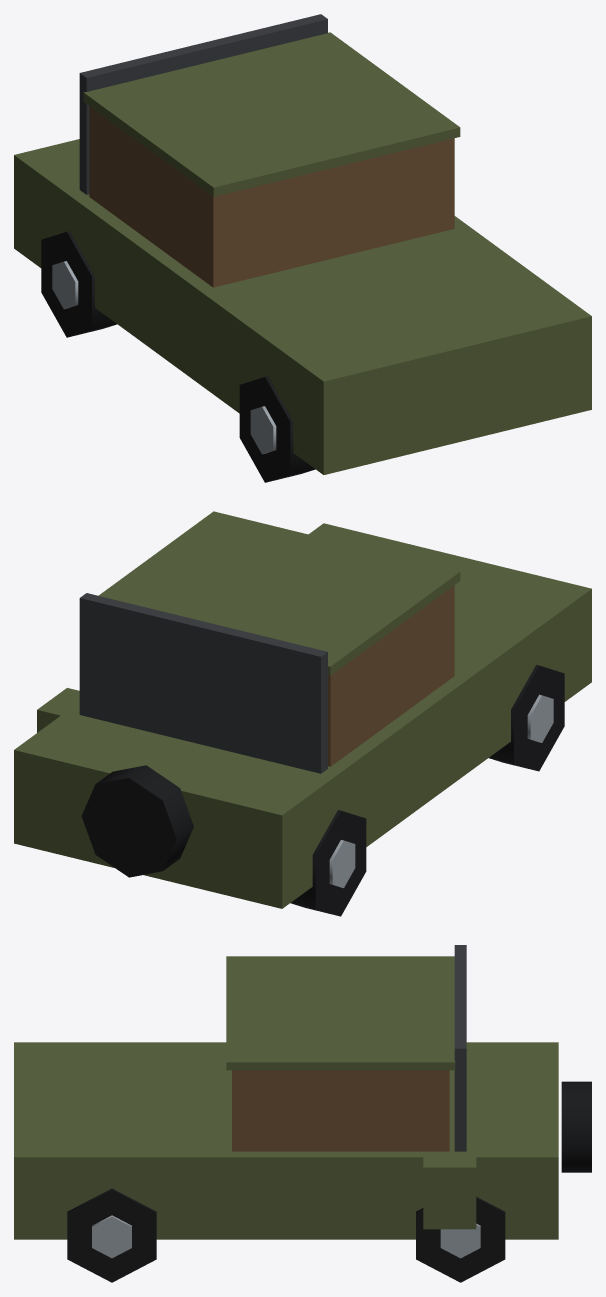
File: veh_ground_jeep_a06_lod1.glb
The picture shows the model from 3 angles, top to bottom: view 1: azimuth 30°, elevation 25°; view 2: azimuth 150°, elevation 25°; view 3: azimuth 270°, elevation 25°; orthographic projection. The views are drawn at different scales.
Visible parts, largest first — view 1: body, wheel_2, wheel_0; view 2: body, wheel_0, wheel_2; view 3: body, wheel_3, wheel_1.
Boxes of the visible parts, x1,y1,x2,y2 form: body: (14,14,591,474); wheel_2: (239,376,315,482); wheel_0: (41,231,116,337); body: (14,511,591,908); wheel_0: (290,810,366,916); wheel_2: (489,665,564,771); body: (14,945,591,1239); wheel_3: (67,1188,156,1282); wheel_1: (416,1196,505,1282).
Size of the model in its own units: 2 by 1.66 by 3.82.
